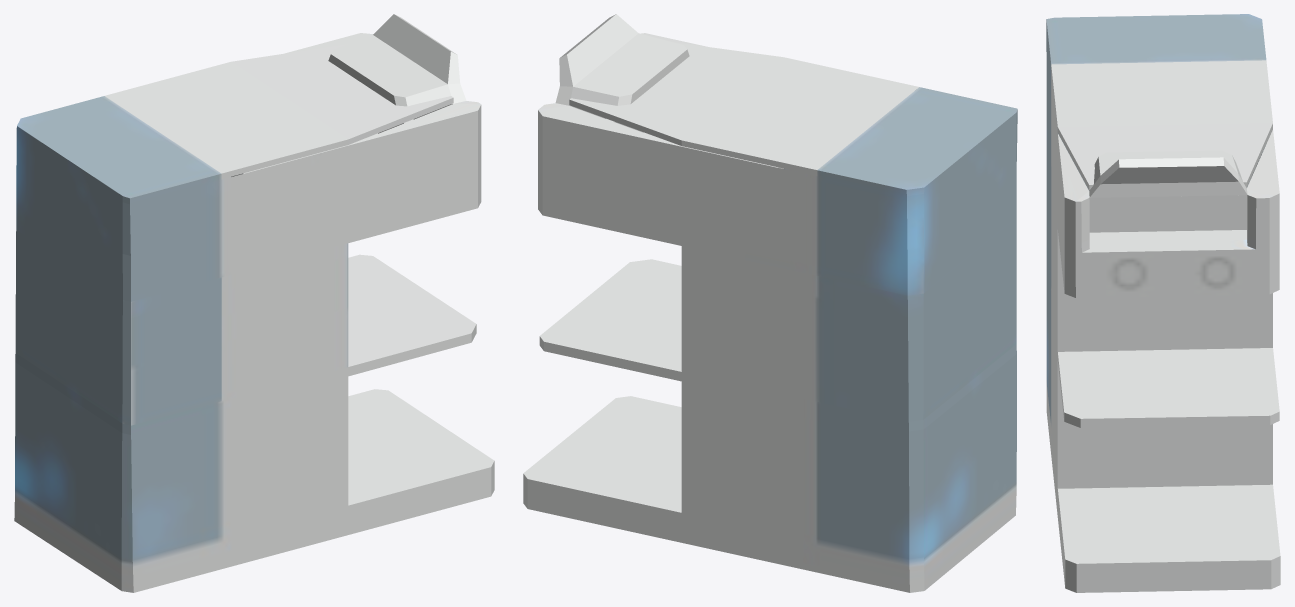
The model's file is Coffee machine.fbx.
3 renders of one model, left to right at view 1: azimuth 30°, elevation 25°; view 2: azimuth 150°, elevation 25°; view 3: azimuth 270°, elevation 25°, orthographic. The views are drawn at different scales.
Parts seen in each view (by area): view 1: prop_HW_Coffe machine; view 2: prop_HW_Coffe machine; view 3: prop_HW_Coffe machine.
Part boxes in pixels (x1,y1,x2,y2): prop_HW_Coffe machine: (14, 14, 494, 592); prop_HW_Coffe machine: (523, 14, 1017, 592); prop_HW_Coffe machine: (1046, 14, 1280, 592).
Size of the model in its own units: 0.1255 by 0.1311 by 0.0657.
